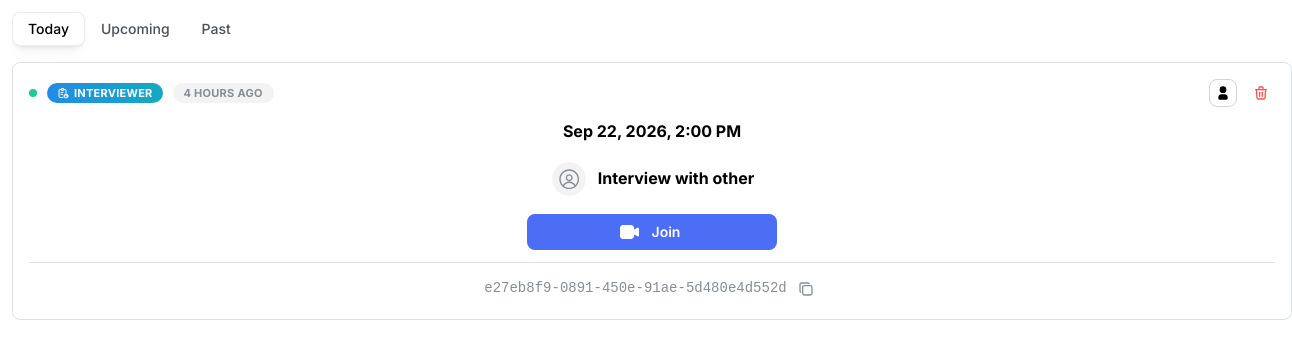
it: interviewList › shows "No interviews to show" when filtered list is empty
The width and height of the screenshot is (1292, 337).
Switch to upcoming (should have 0 filtered results)
Click the tab "Upcoming" at (135, 29), box 85,12 -> 186,46
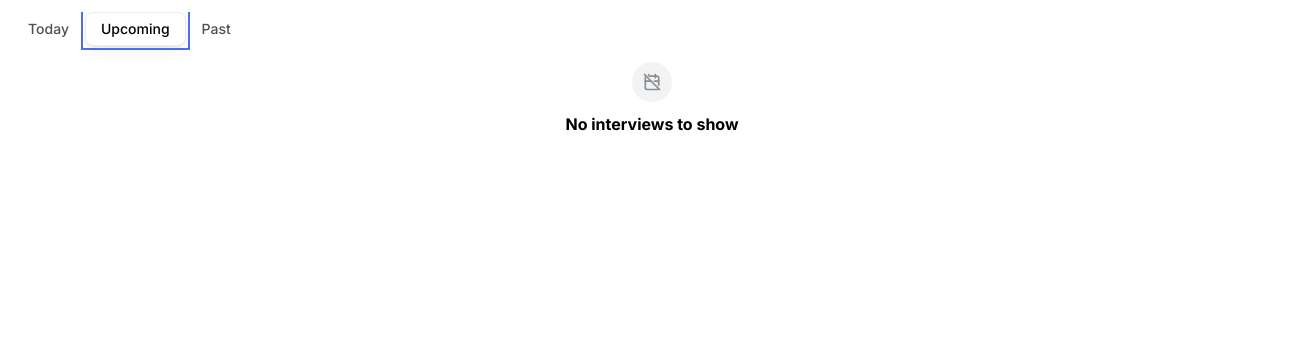
Expected: the text "No interviews to show" is shown, 565,112 -> 738,137
